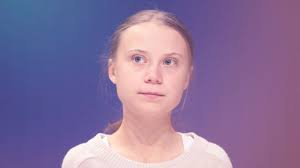noMask: (101, 6, 208, 125)
